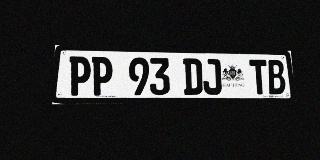3: (150, 58, 170, 95)
9: (129, 57, 149, 95)
B: (267, 60, 286, 94)
D: (183, 58, 203, 95)
J: (202, 59, 222, 95)
P: (68, 56, 91, 96), (91, 57, 113, 96)
T: (249, 59, 269, 94)
